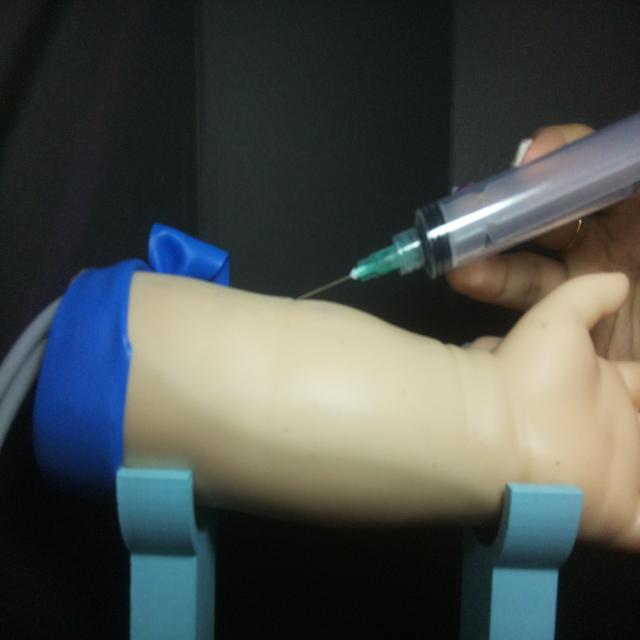16deg: (292, 108, 638, 305)
